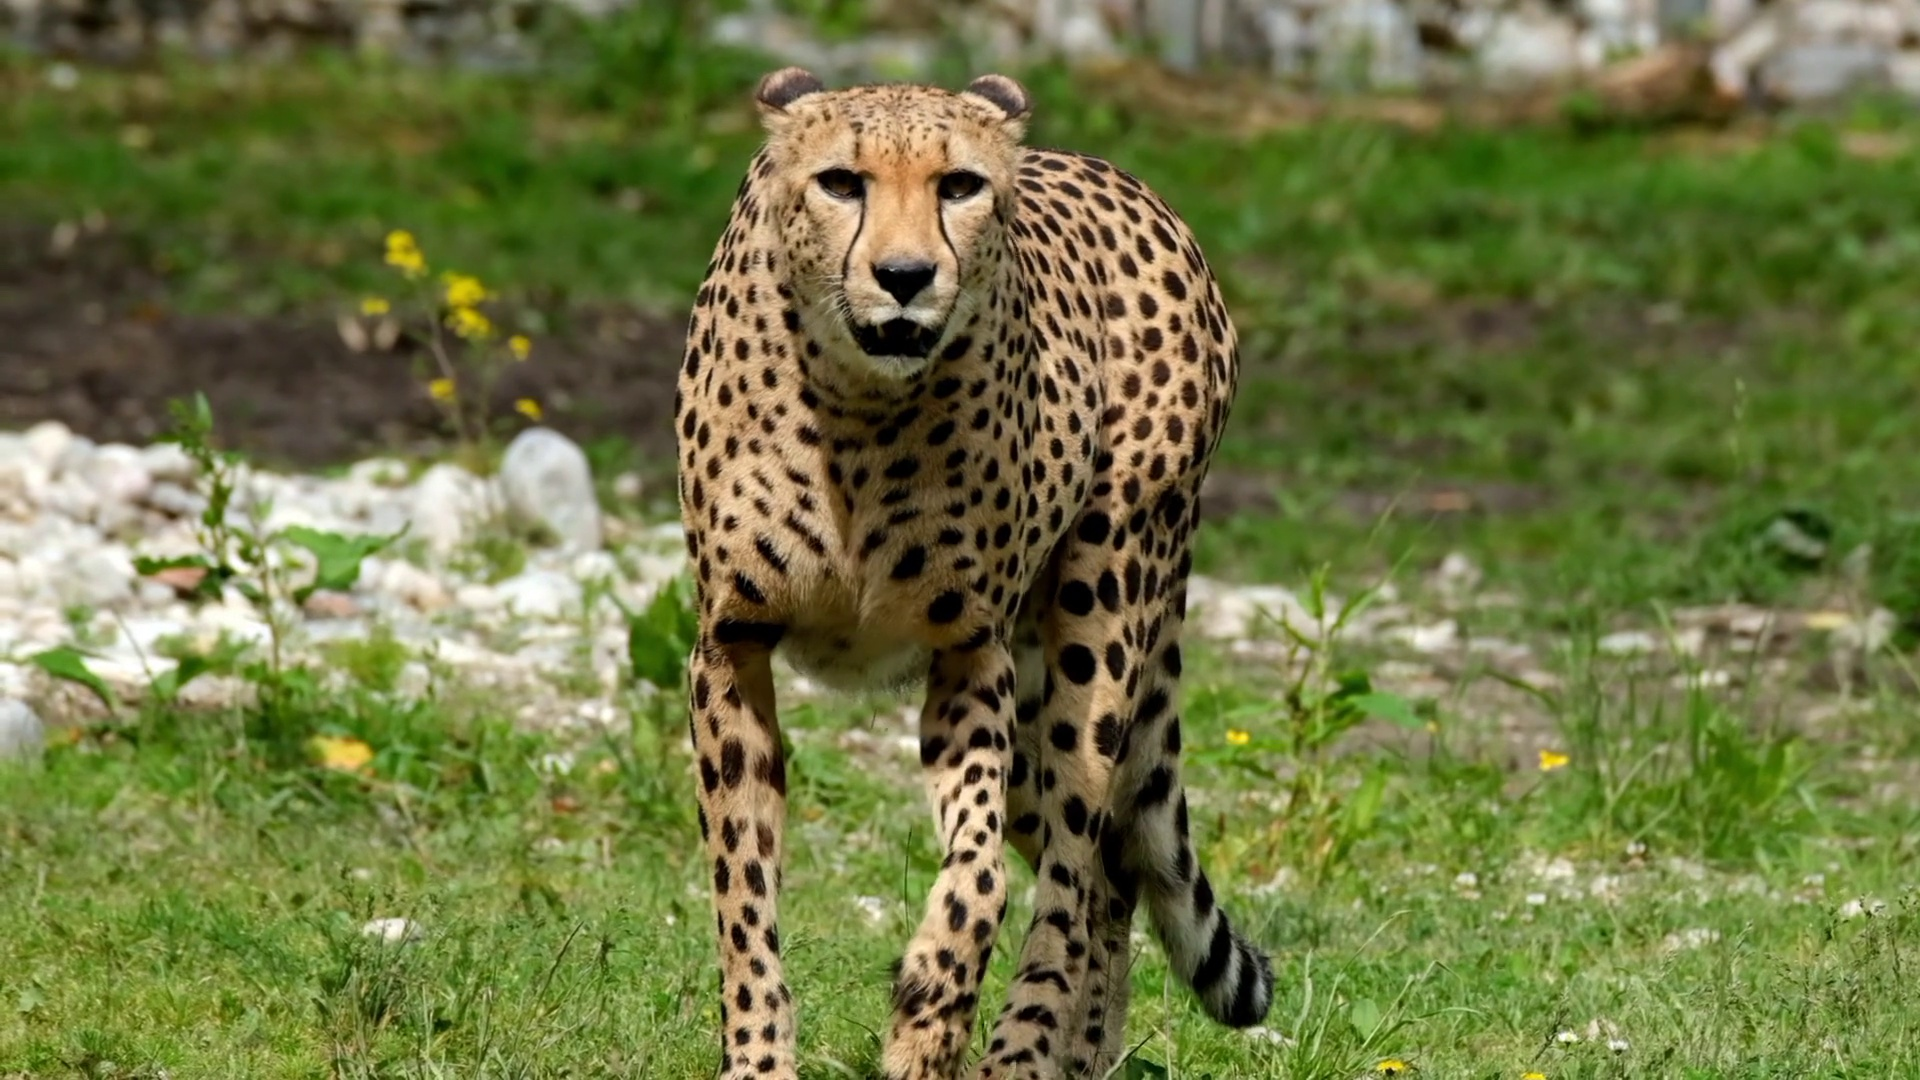Cheetah: (665, 61, 1283, 1080)
